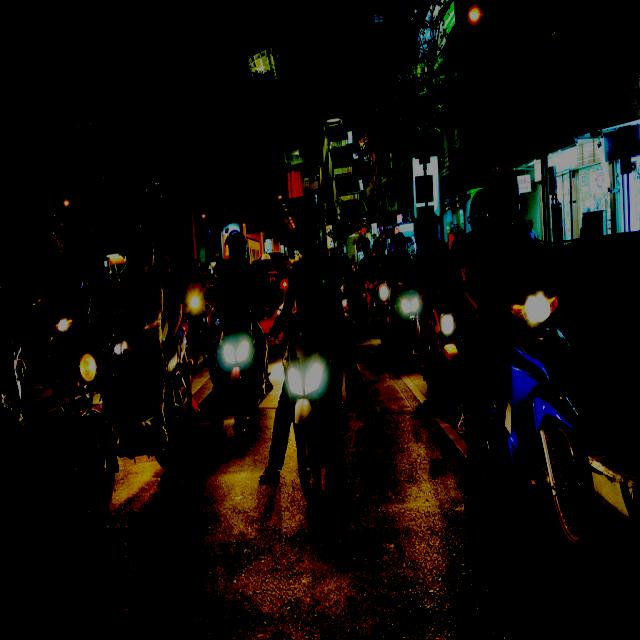Motorbike: (449, 277, 608, 561), (62, 296, 182, 523), (266, 288, 357, 504), (210, 286, 265, 442)
